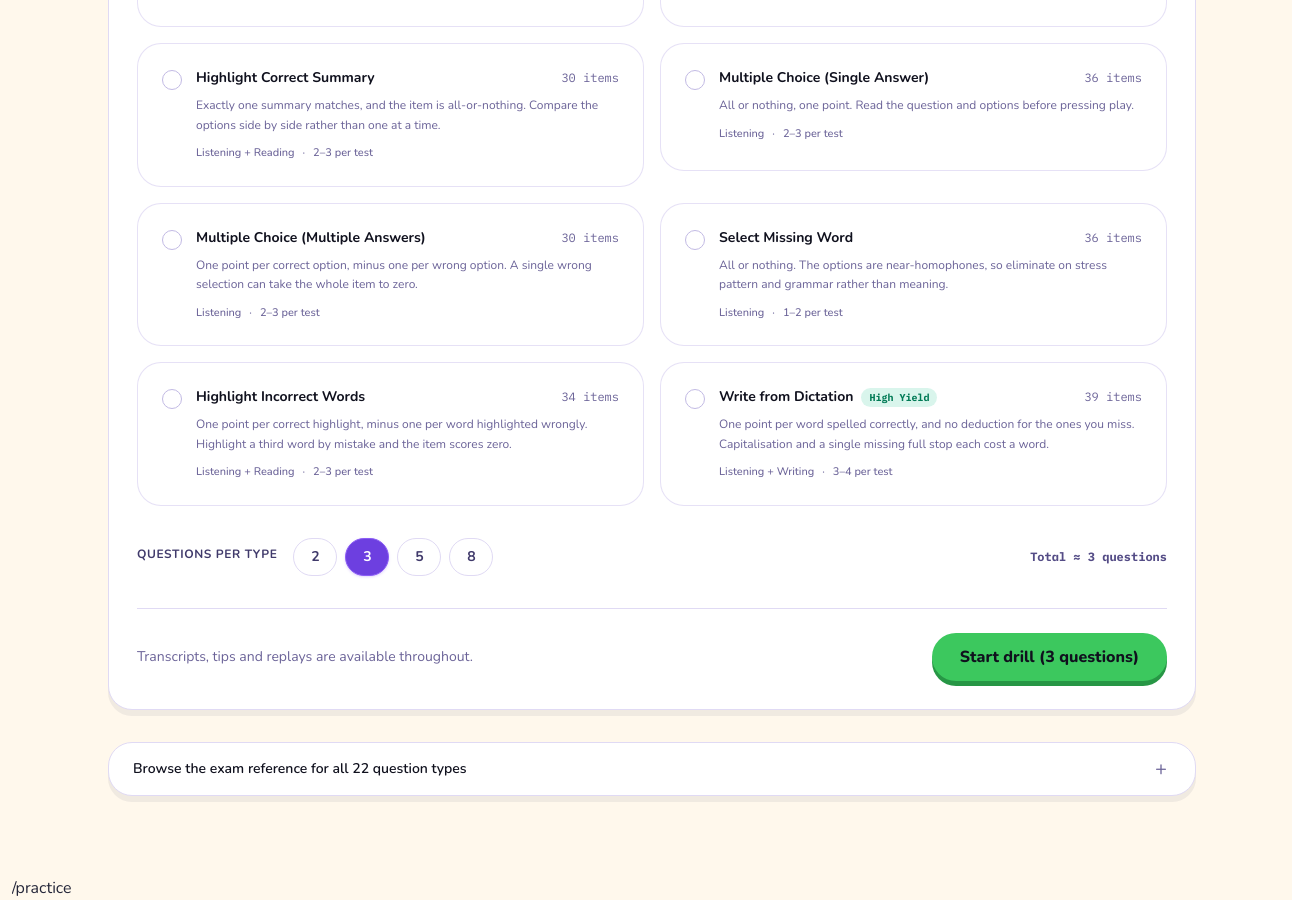
Test: Practice › changes how many questions each type contributes
The width and height of the screenshot is (1292, 900).
(page scrolled)
Click the button "8".
click(472, 557)  # box [450, 538, 494, 576]
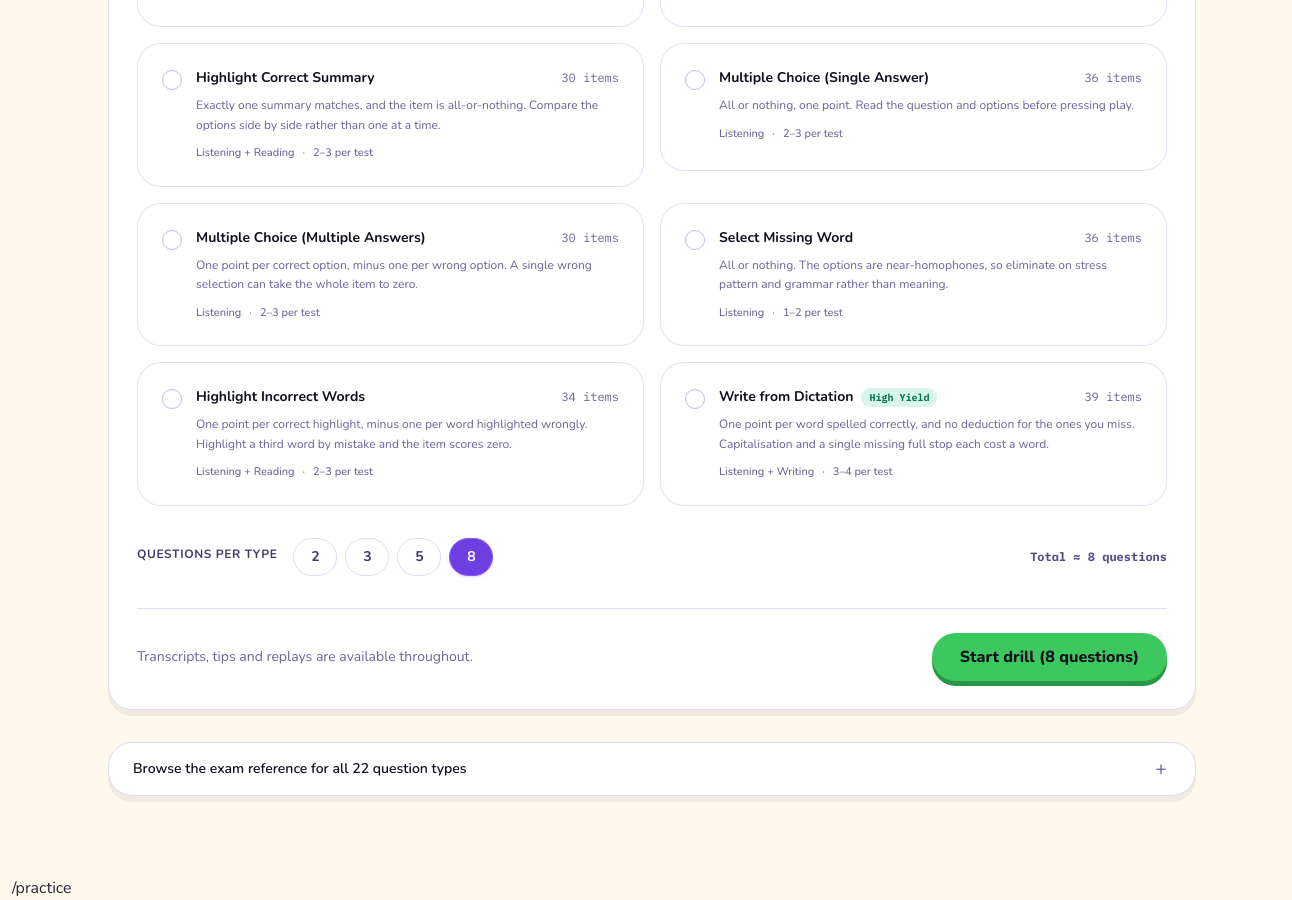
Result: the text "Total ≈ 8 questions" is shown at [1030, 549, 1167, 565]
